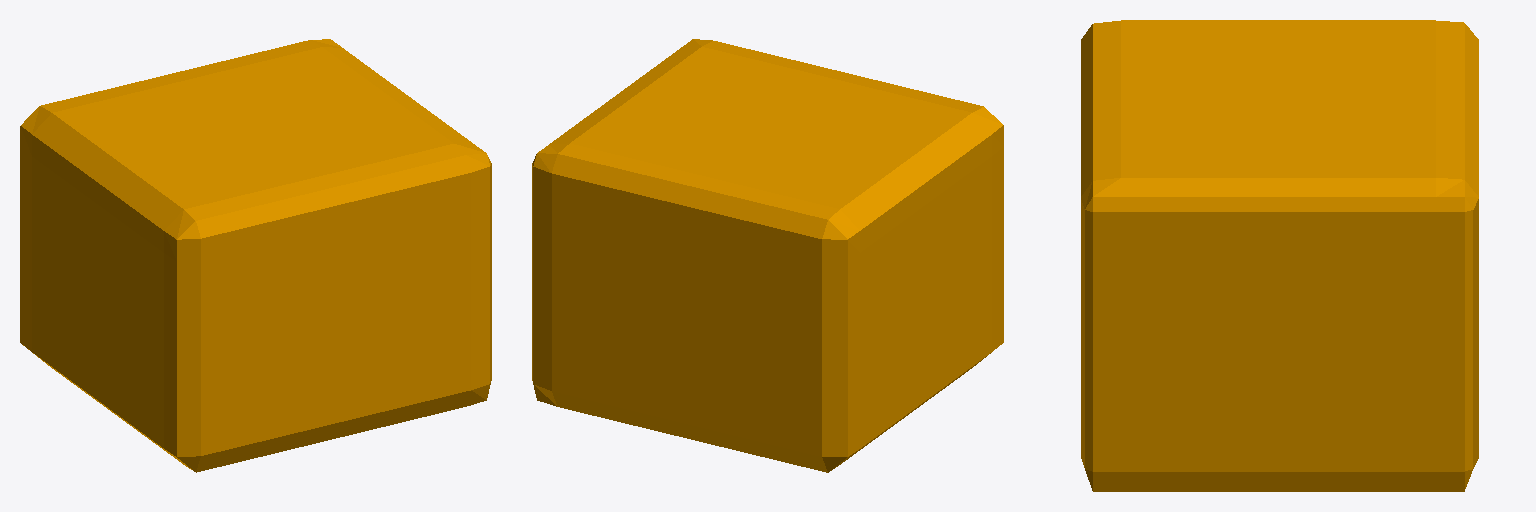
URDF robot description (cylinder_box_70):
<?xml version="1.0" encoding="utf-8"?>  <robot name="cylinder_box_70">   <link name="cylinder_box_70">     <visual>       <geometry>         <mesh filename="../meshes/box/box_70.stl" scale="1 1 1"/>       </geometry>     </visual>     <collision>       <geometry>         <mesh filename="../meshes/box/box_70.stl" scale="1 1 1"/>       </geometry>     </collision>     <inertial>        <origin         xyz="0 0 0"         rpy="0 0 0" />       <mass value="0.30530478191298505"/>       <origin rpy="0 0 0" xyz="0 0 0"/>       <inertia ixx="0.00020708348102137637" ixy="2.335824518948594e-08" ixz="2.887645974176828e-07" iyy="0.0002296059590555858" iyz="-4.946100386933542e-08" izz="0.0002653371304652788"/>     </inertial>   </link>  </robot>

--- What the picture shows (computed from the rendered views, not written in the file) ---
Views: 3 orthographic renders of the robot side by side, from view 1: azimuth 30°, elevation 25°; view 2: azimuth 150°, elevation 25°; view 3: azimuth 270°, elevation 25°.
Model cylinder_box_70 with 1 links and 0 joints (none), rooted at cylinder_box_70, posed all joints at 0.
Visible links, largest first — view 1: cylinder_box_70; view 2: cylinder_box_70; view 3: cylinder_box_70.
Link boxes in pixels (x1=…): cylinder_box_70: x1=20, y1=39, x2=491, y2=472; cylinder_box_70: x1=532, y1=39, x2=1003, y2=472; cylinder_box_70: x1=1081, y1=20, x2=1478, y2=491.
Bounding box of the posed robot: 0.0759 × 0.0697 × 0.0587 m (x, y, z).
1 mesh visuals loaded from 1 distinct referenced files (1 binary STL).